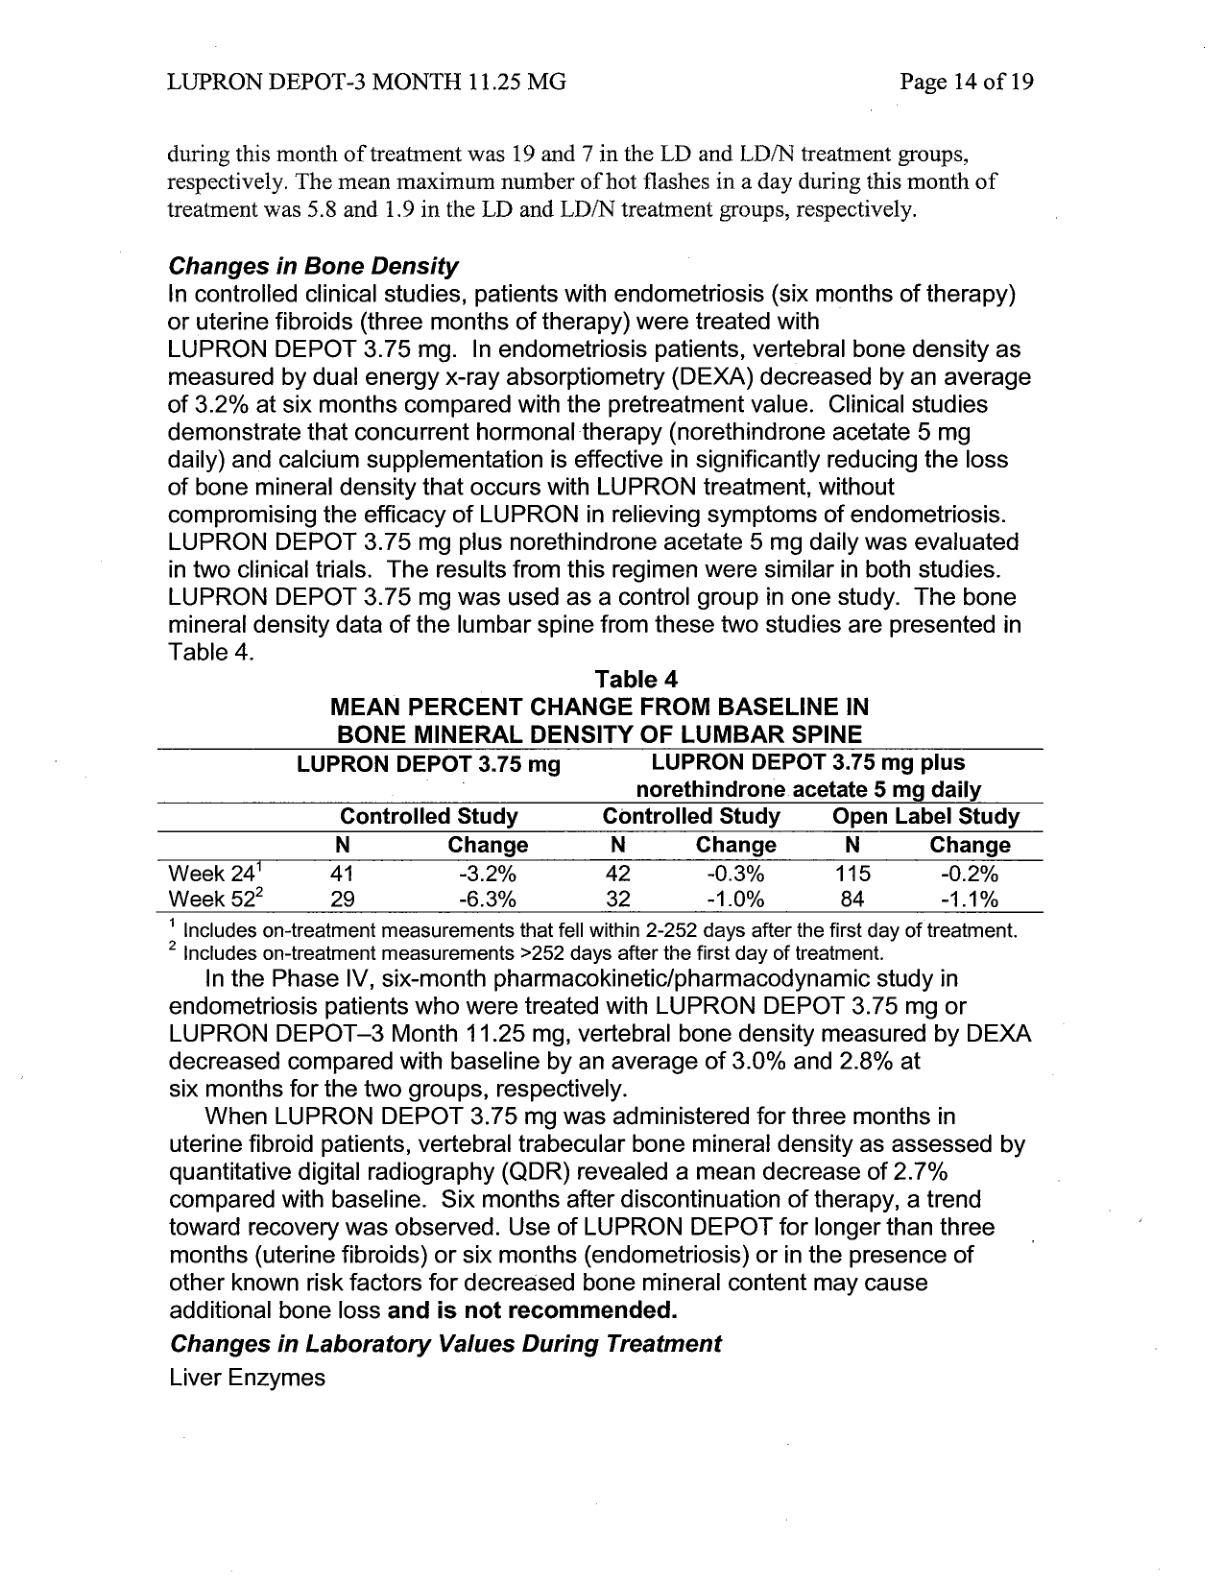partial_lined_merged_cells: (153, 744, 1045, 914)
